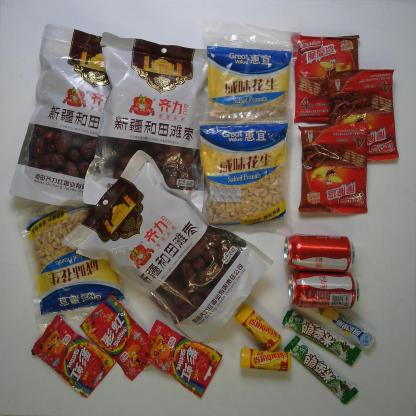Candy: (30, 312, 119, 400), (134, 319, 225, 400), (78, 290, 156, 382), (312, 298, 378, 350), (232, 302, 284, 352), (238, 345, 292, 374)
Chocolate: (283, 334, 360, 406), (281, 308, 363, 367)
Dessert: (324, 66, 399, 165), (295, 121, 370, 216), (289, 31, 362, 125)
Dried Food: (60, 147, 276, 344), (81, 29, 213, 217), (6, 21, 123, 209)
Dried Fruit: (13, 193, 132, 334), (191, 102, 297, 236), (197, 16, 301, 136)
Drink: (282, 231, 356, 274), (286, 271, 362, 310)
